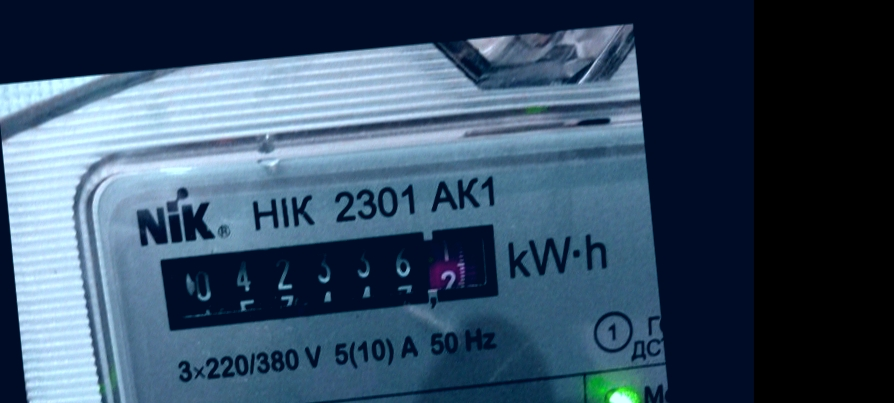0: (191, 267, 215, 303)
1: (437, 235, 453, 265)
2: (272, 255, 295, 293), (438, 268, 459, 291)
3: (312, 247, 335, 287), (350, 243, 373, 281)
4: (232, 256, 254, 294)
6: (389, 242, 414, 279)
screen: (151, 214, 511, 340)
